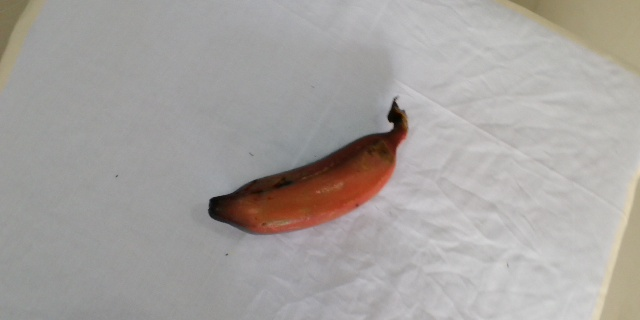banana_red: (205, 104, 408, 237)
